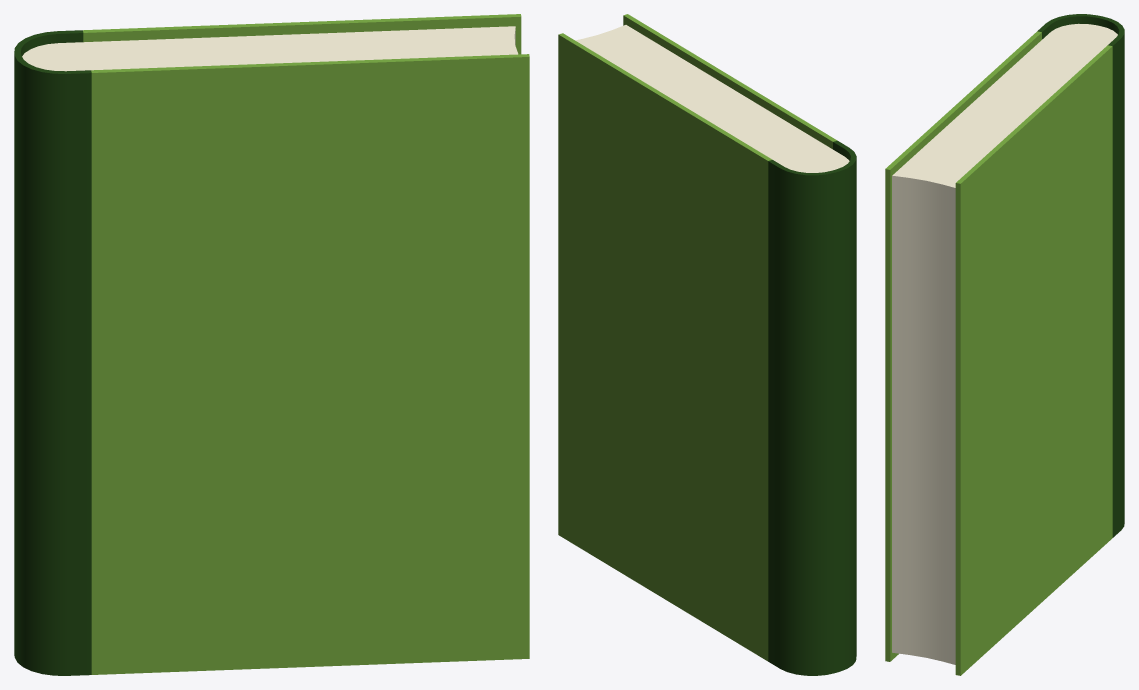
The model's file is green_book.glb.
3 renders of one model, left to right at view 1: azimuth 30°, elevation 25°; view 2: azimuth 150°, elevation 25°; view 3: azimuth 270°, elevation 25°, orthographic. The views are drawn at different scales.
Visible parts, largest first — view 1: Cube.947; view 2: Cube.947; view 3: Cube.947.
Part boxes in pixels (x1,y1,x2,y2): Cube.947: (14,14,529,675); Cube.947: (558,14,856,675); Cube.947: (885,14,1124,675).
Size of the model in its own units: 1.55 by 2.1 by 0.9263.
Materials: 1 (1 with a texture image).
